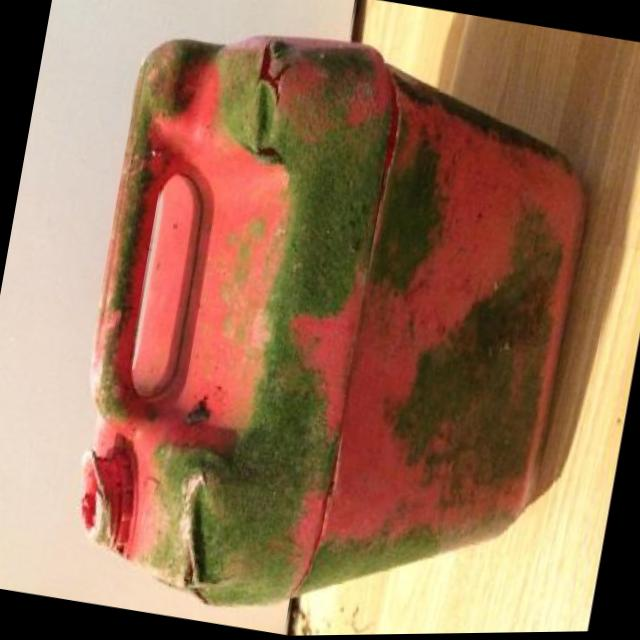plastic: (8, 15, 640, 592)
